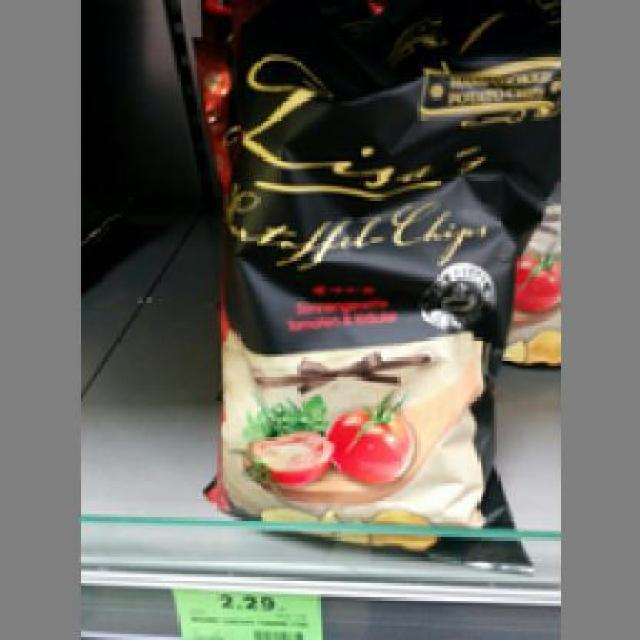Chips: (193, 46, 530, 554)
